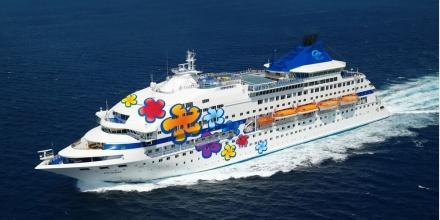youlun: (37, 34, 384, 184)
